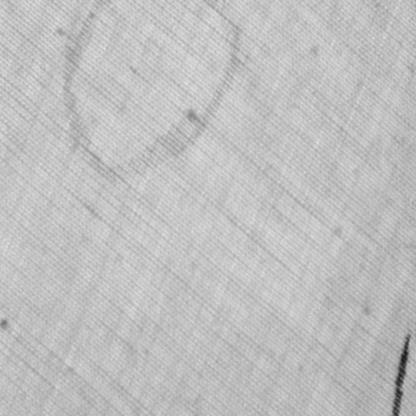oil spot: (60, 0, 244, 192), (389, 329, 414, 415)
